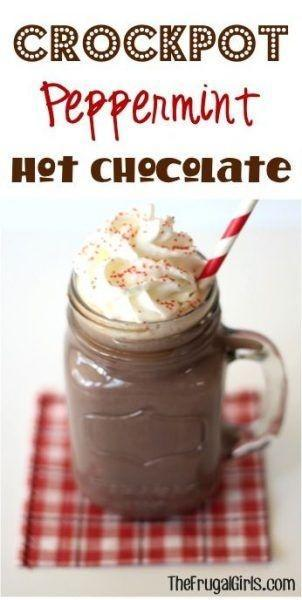glass-mug: (60, 252, 289, 514)
